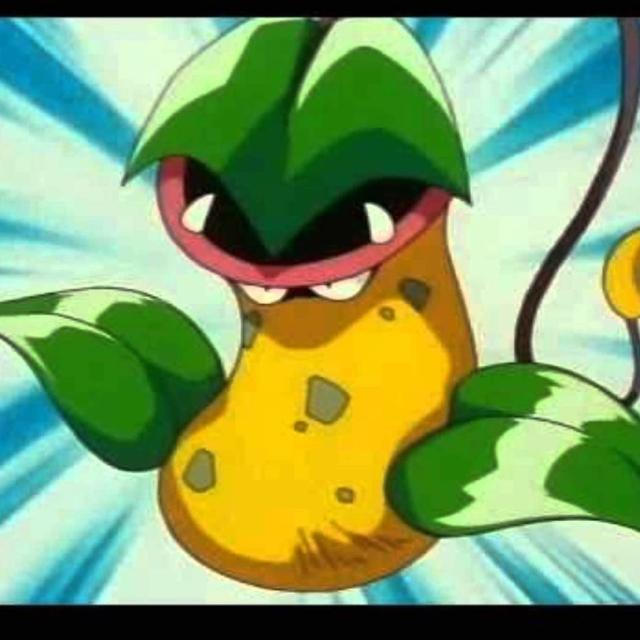Victreebel: (134, 44, 515, 597)
